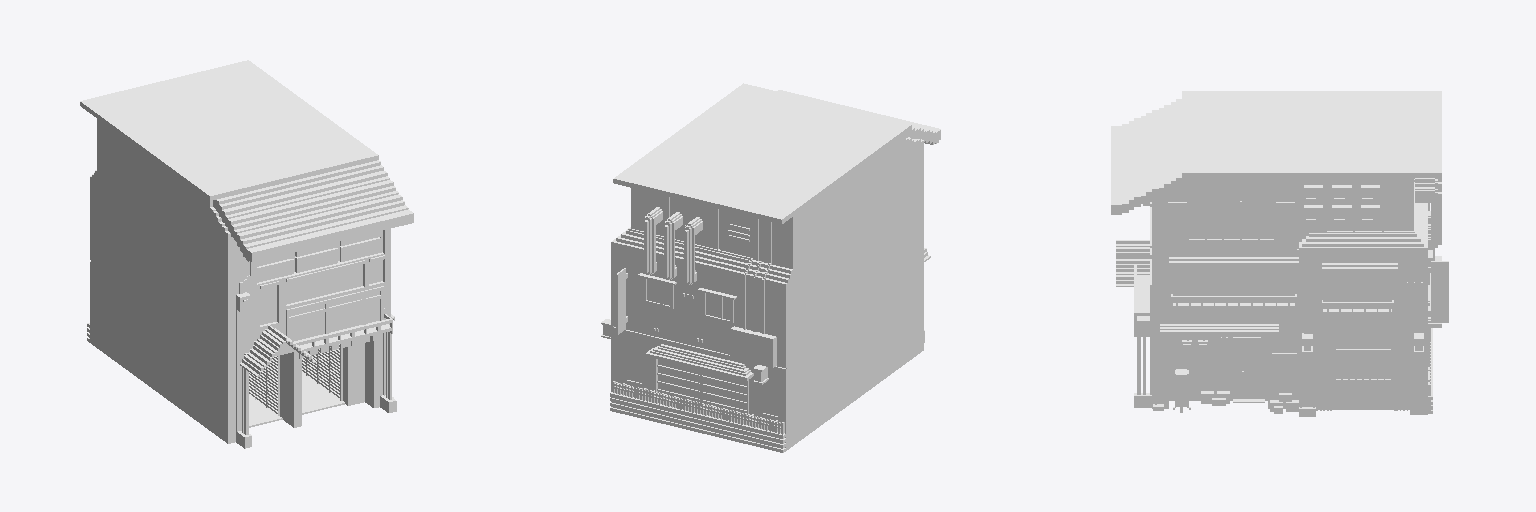
File: GDS2_Market-1.obj
The picture shows the model from 3 angles: view 1: azimuth 30°, elevation 25°; view 2: azimuth 150°, elevation 25°; view 3: azimuth 270°, elevation 25°; orthographic projection.
Parts seen in each view (by area): view 1: object 1; view 2: object 1; view 3: object 1.
Part boxes in pixels (x1,y1,x2,y2): object 1: (80, 60, 413, 448); object 1: (601, 83, 940, 452); object 1: (1111, 91, 1448, 416).
Size of the model in its own units: 12.4 by 14.8 by 19.1.